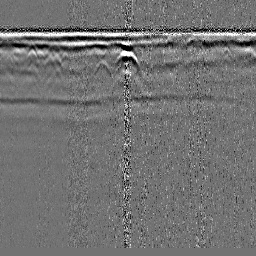cavity: (113, 48, 141, 72)
